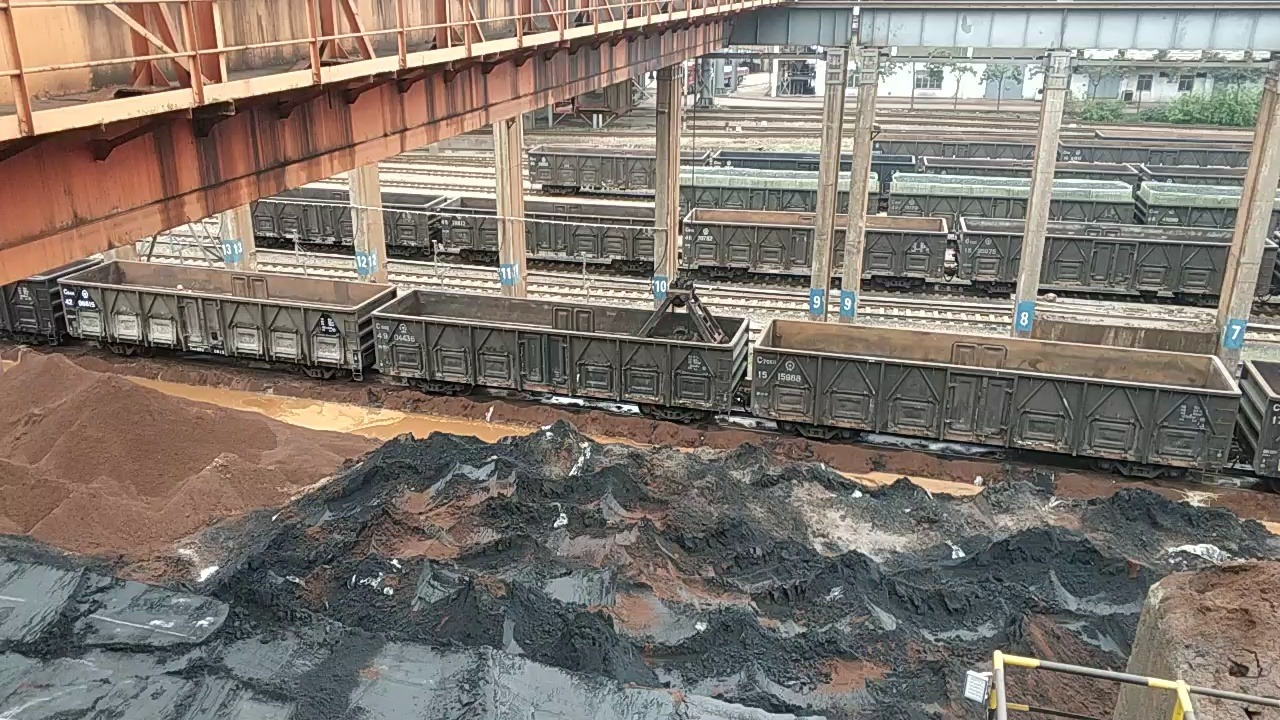grab: (629, 266, 735, 348)
